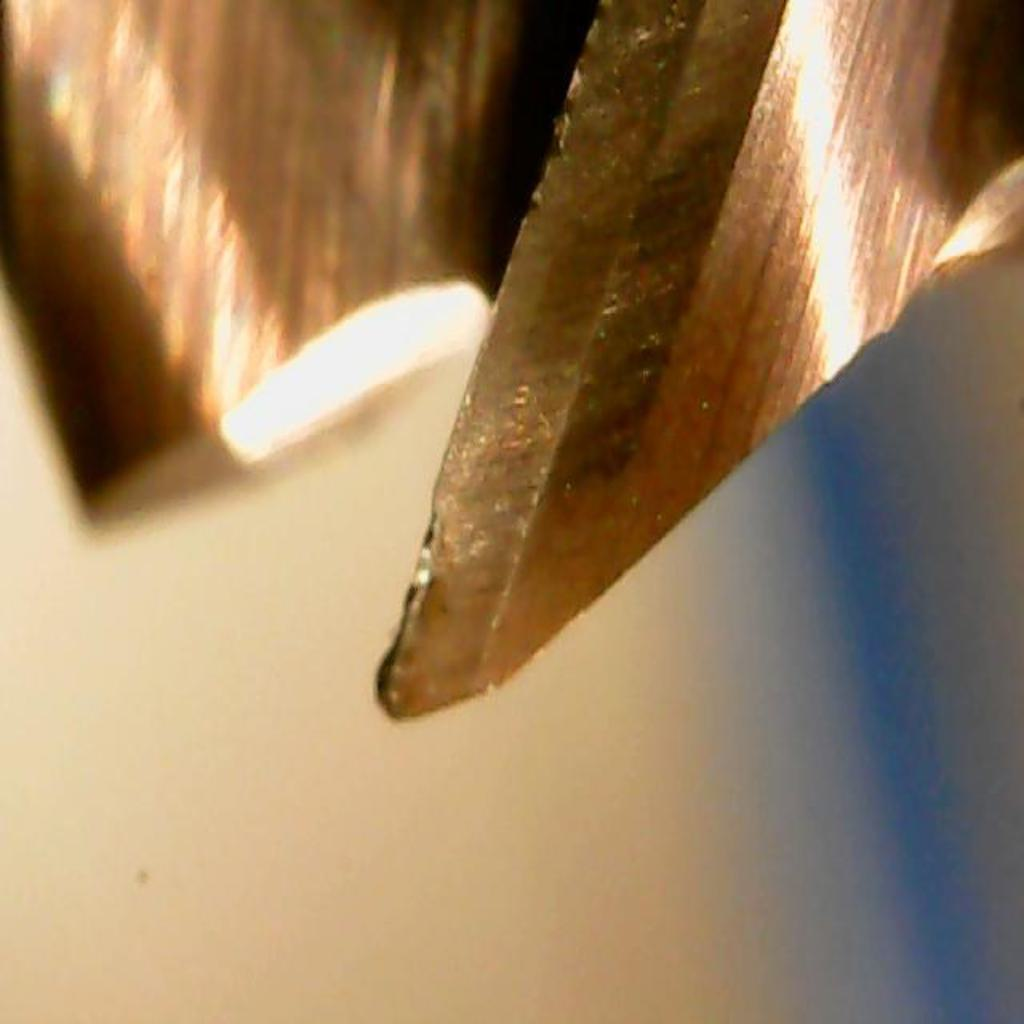Tool-wear-class-1: (348, 352, 662, 730)
